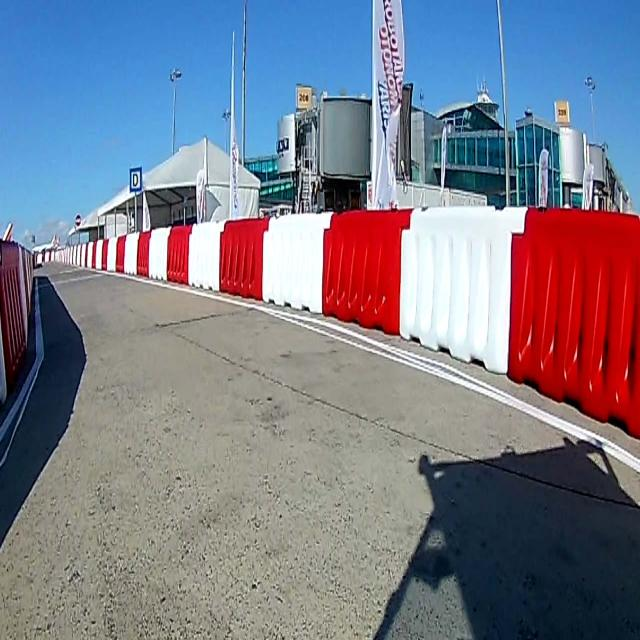durak: (130, 167, 142, 193)
